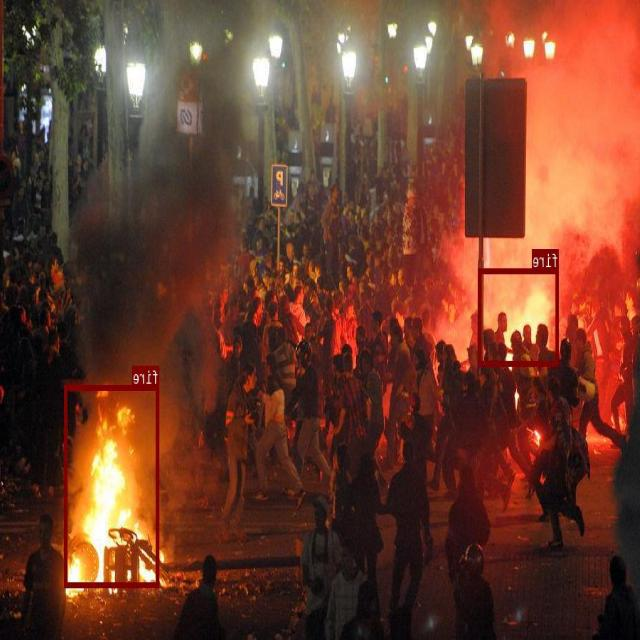fire: (65, 385, 160, 586), (479, 268, 559, 365)
